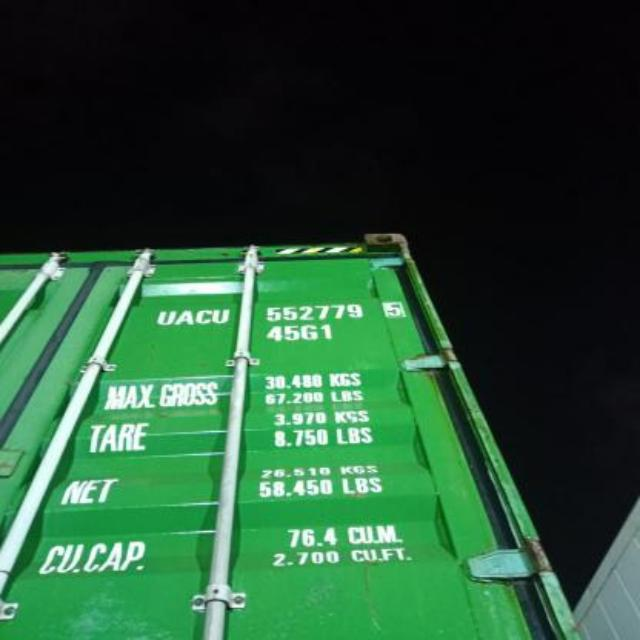2: (298, 302, 314, 324)
5: (282, 300, 300, 324), (380, 300, 404, 318), (263, 302, 281, 324)
7: (332, 301, 346, 325), (316, 302, 332, 322)
9: (346, 299, 364, 325)
A: (177, 302, 193, 328)
C: (195, 301, 211, 325)
U: (156, 300, 177, 330), (211, 304, 231, 328)
